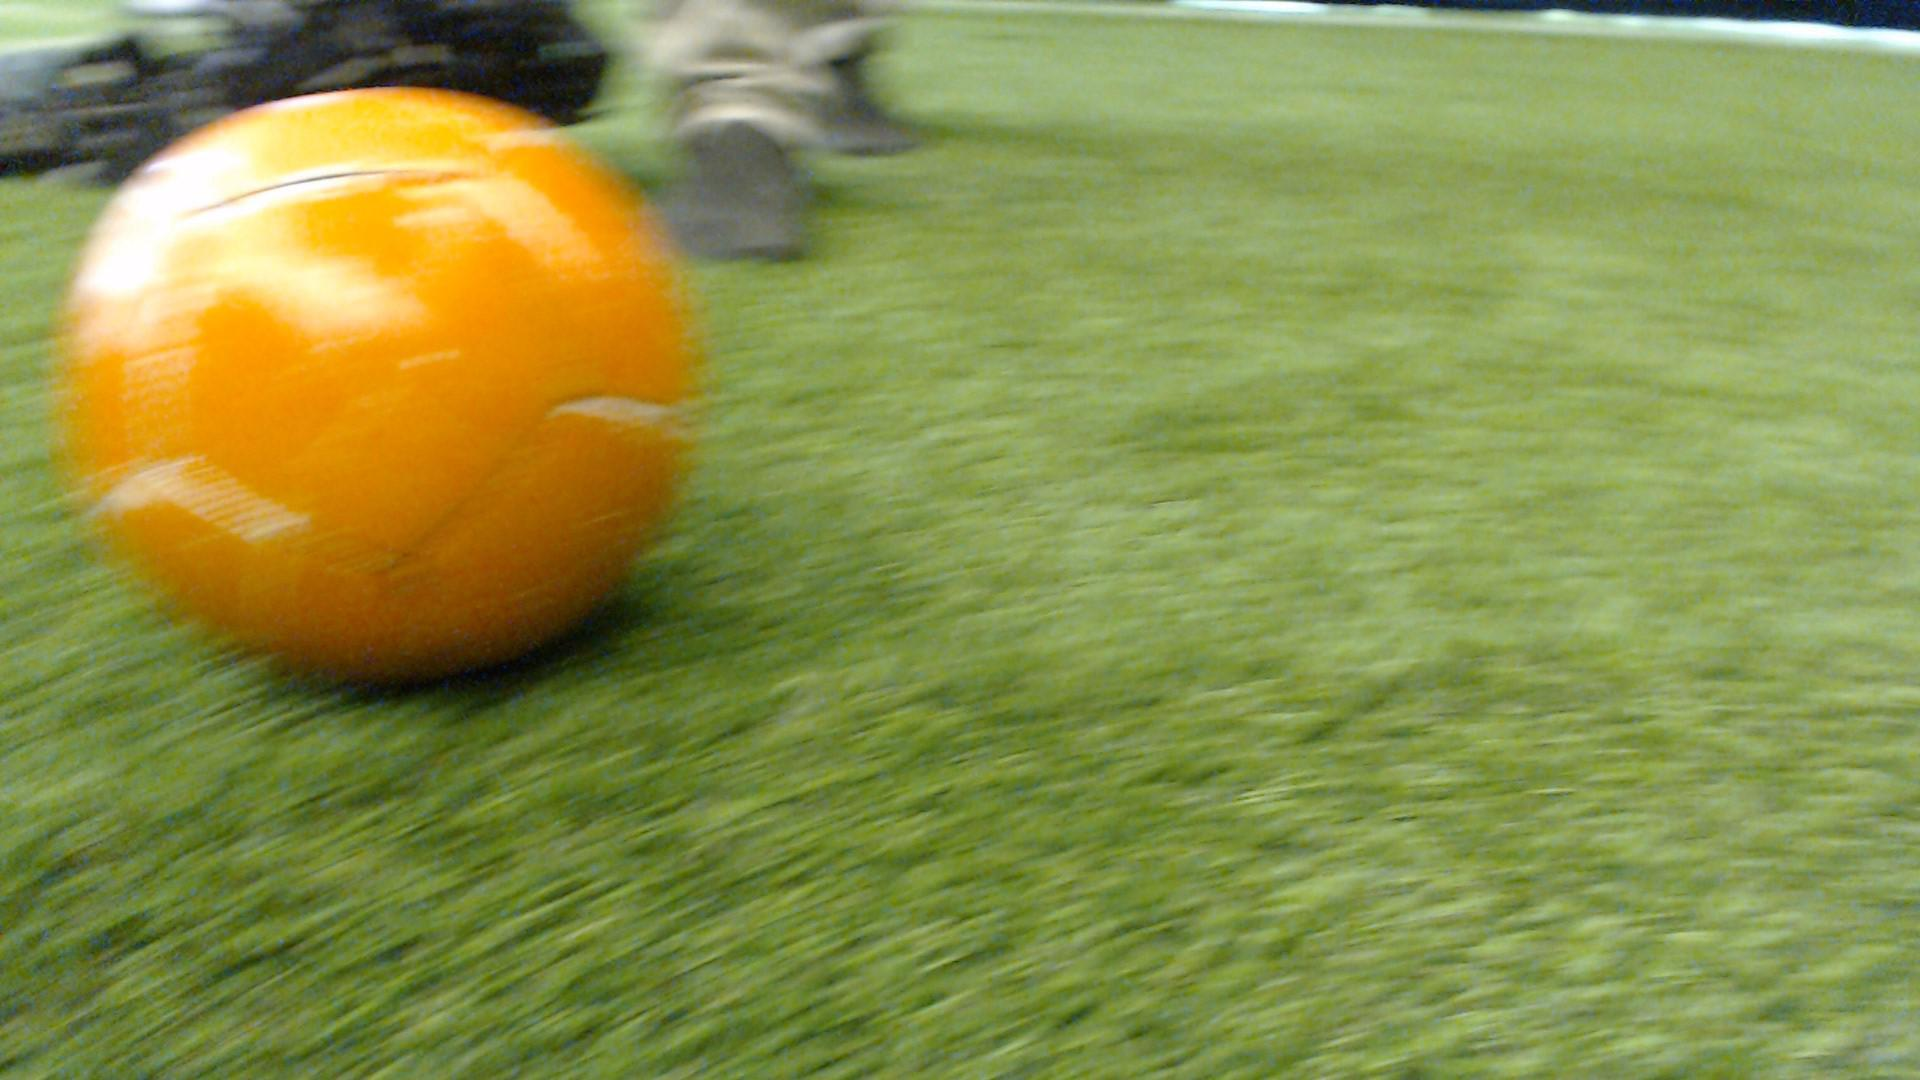bola: (41, 66, 735, 692)
